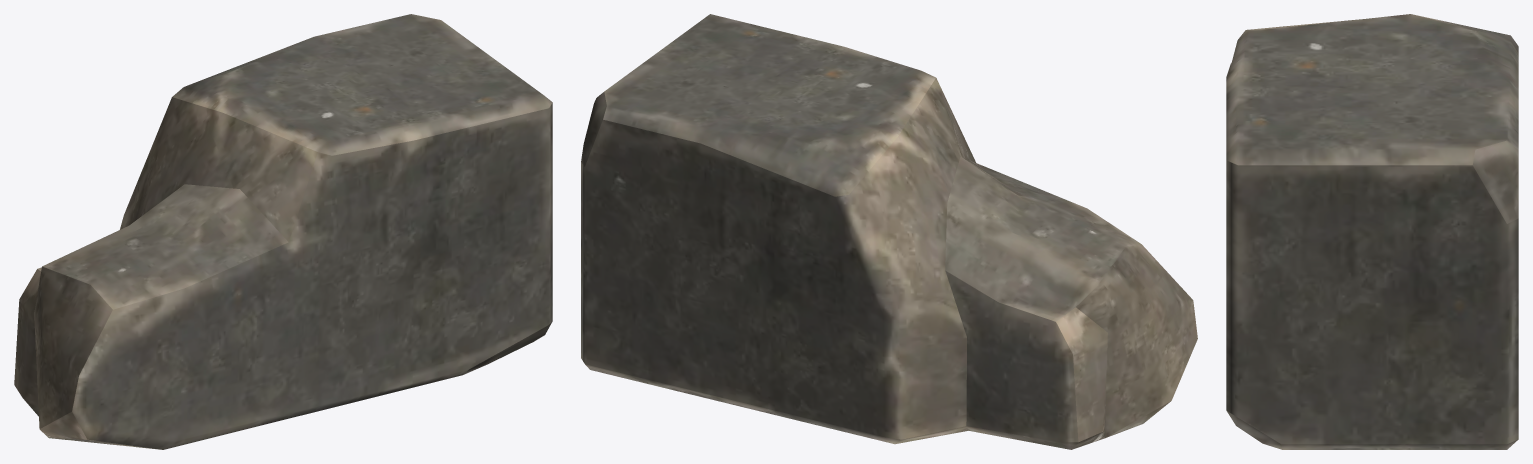
3 views of the same model, side by side, from view 1: azimuth 30°, elevation 25°; view 2: azimuth 150°, elevation 25°; view 3: azimuth 270°, elevation 25° (orthographic). The views are drawn at different scales.
Parts seen in each view (by area): view 1: SM_SaradominTemple_Brick_02_LOD0; view 2: SM_SaradominTemple_Brick_02_LOD0; view 3: SM_SaradominTemple_Brick_02_LOD0.
Part boxes in pixels (bbox=[...]): SM_SaradominTemple_Brick_02_LOD0: bbox=[14, 14, 552, 449]; SM_SaradominTemple_Brick_02_LOD0: bbox=[581, 14, 1197, 449]; SM_SaradominTemple_Brick_02_LOD0: bbox=[1226, 14, 1518, 449].
Size of the model in its own units: 1.21 by 0.6213 by 0.5478.
Materials: 1 (1 with a texture image).
